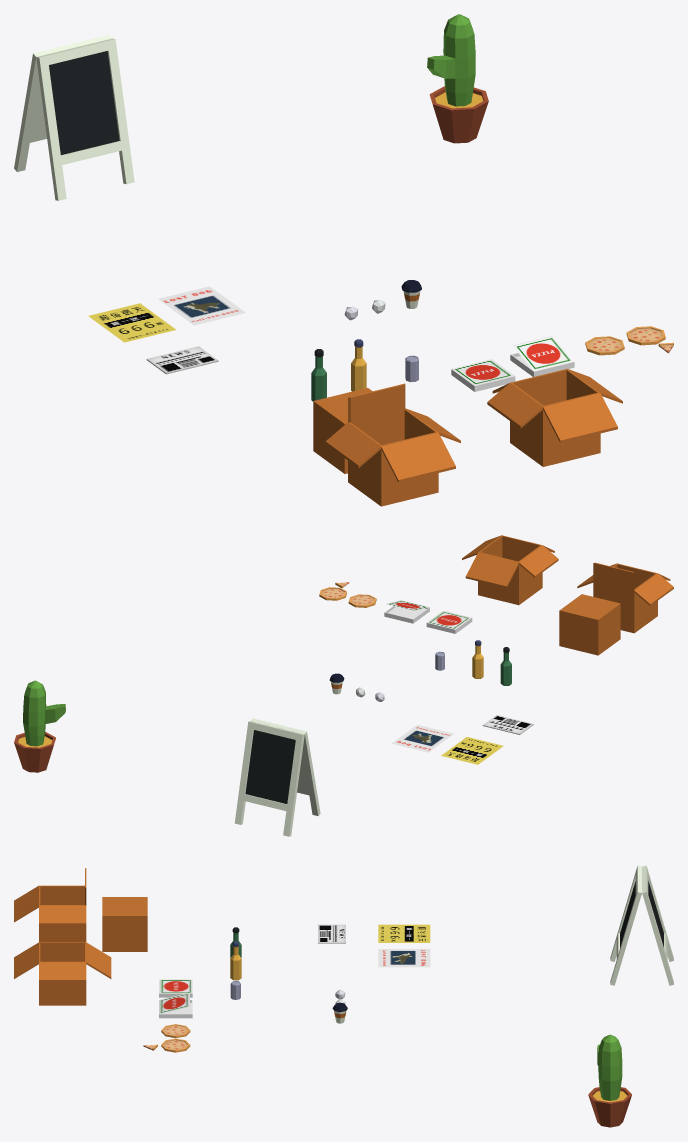
File: RDR_Props_3.fbx
3 views of the same model, one above another, from view 1: azimuth 30°, elevation 25°; view 2: azimuth 150°, elevation 25°; view 3: azimuth 270°, elevation 25° (orthographic). The views are drawn at different scales.
Parts seen in each view (by area): view 1: Board, Cube.002, Cube.001, Plants, Box_01, Plane, Plane.001, Pizza_box_Open, Box_02, Plane.002; view 2: Board, Cube.001, Cube.002, Box_01, Plants, Plane.001, Plane, Pizza_box_Open, Box_02, Plane.002; view 3: Cube.001, Cube.002, Board, Plants, Box_01, Plane, Plane.001, Pizza_box_Open, Box_02, Plane.002.
Part boxes in pixels (x1,y1,x2,y2): Board: (14,35,134,200); Cube.002: (325,383,460,506); Cube.001: (487,368,622,466); Plants: (427,14,488,143); Box_01: (313,388,372,473); Plane: (158,286,245,325); Plane.001: (88,303,176,342); Pizza_box_Open: (510,336,574,376); Box_02: (451,359,515,391); Plane.002: (146,346,218,374); Board: (234,718,320,836); Cube.001: (462,535,558,605); Cube.002: (577,562,673,633); Box_01: (559,594,620,655); Plants: (14,680,65,772); Plane.001: (441,737,503,764); Plane: (391,724,453,752); Pizza_box_Open: (384,600,429,623); Box_02: (426,610,472,633); Plane.002: (482,715,533,734); Cube.001: (14,942,111,1005); Cube.002: (14,868,86,942); Board: (610,865,673,985); Plants: (588,1034,631,1127); Box_01: (102,897,147,951); Plane: (378,949,430,967); Plane.001: (378,924,430,942); Pizza_box_Open: (159,992,192,1018); Box_02: (159,979,192,997); Plane.002: (318,924,345,943).
Size of the model in its own units: 365 by 108 by 554.
